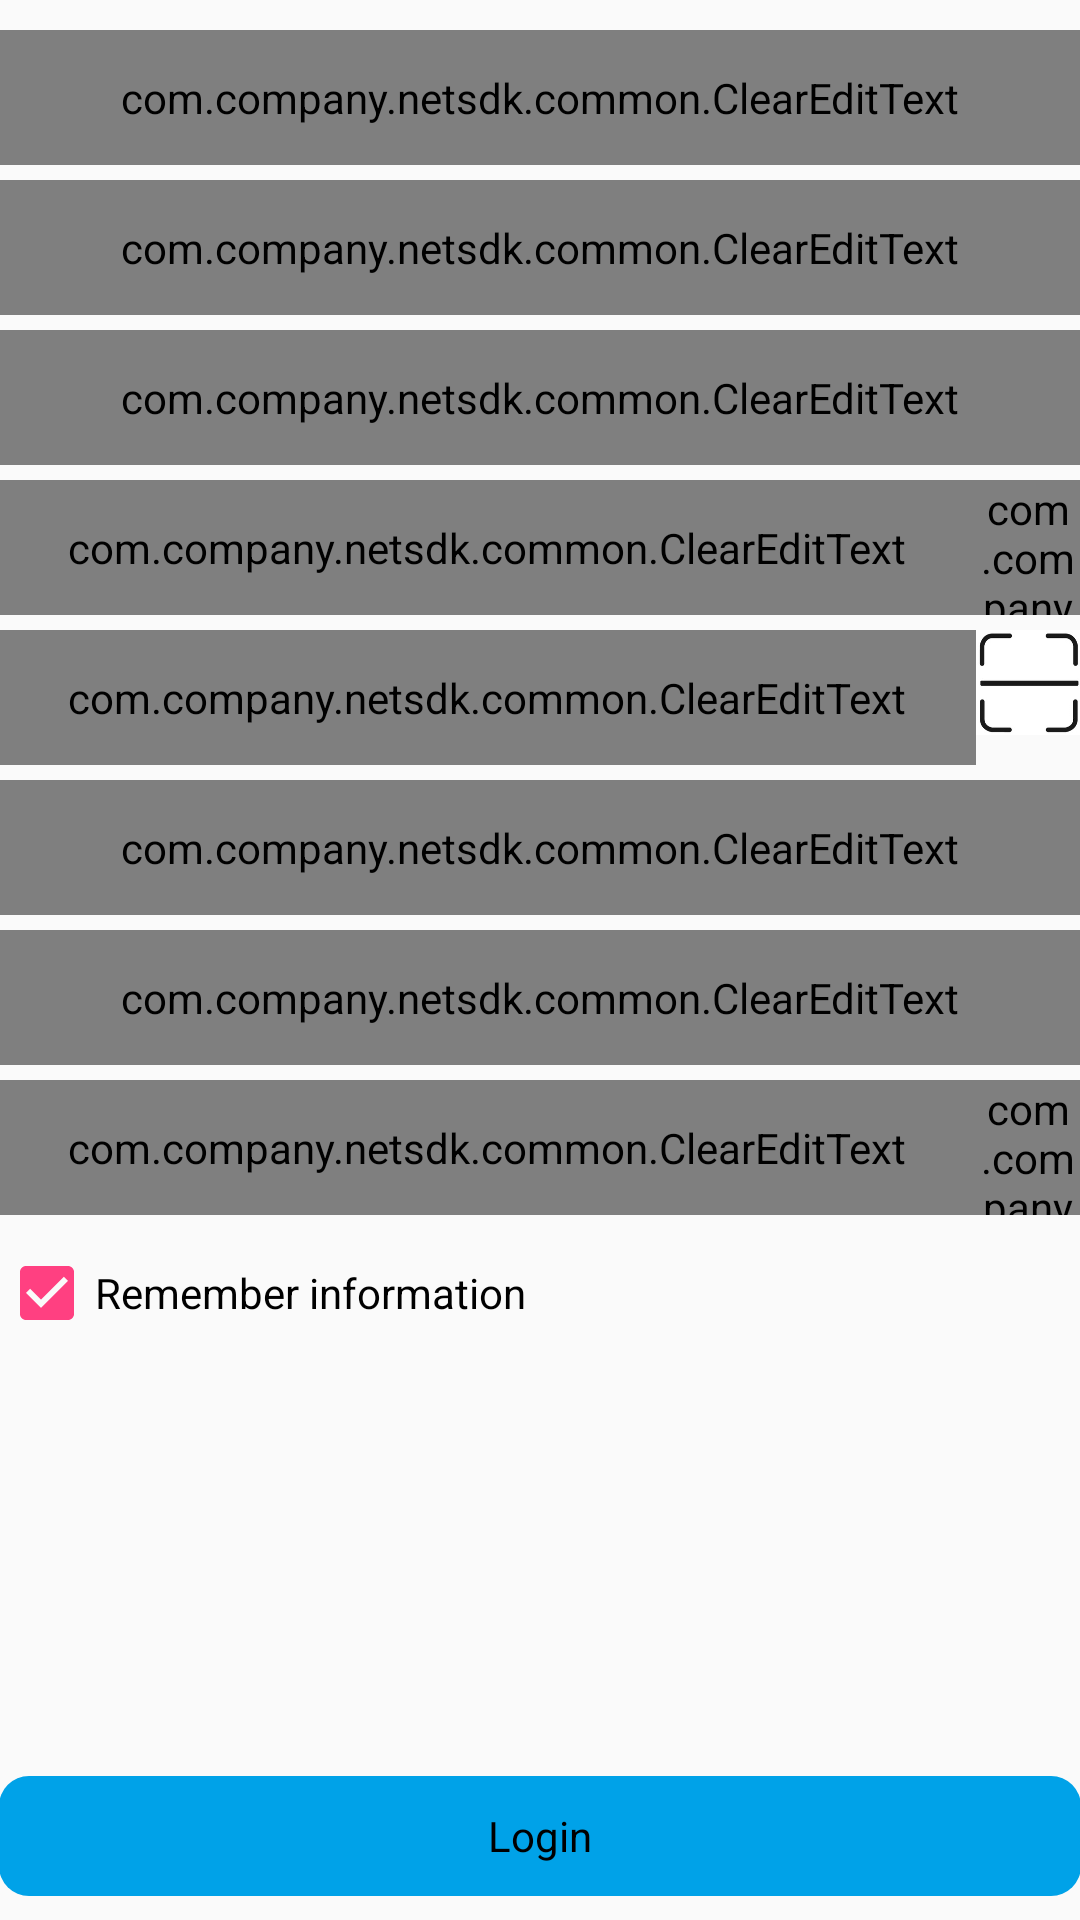

Icons on this 1080w x 1920h Android screen, each with the point to tap as [x,y]:
scan: [1029,683]
